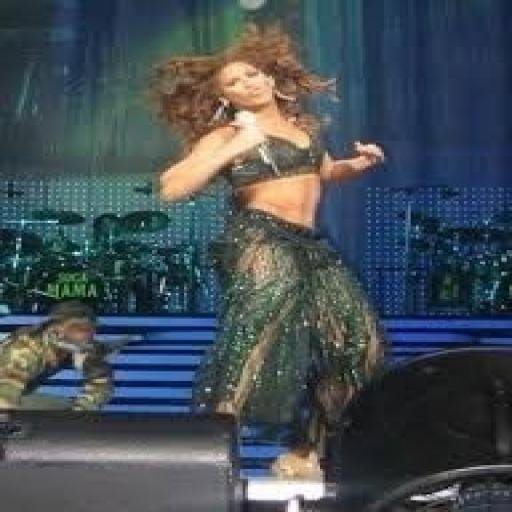dancing: (147, 22, 392, 480)
